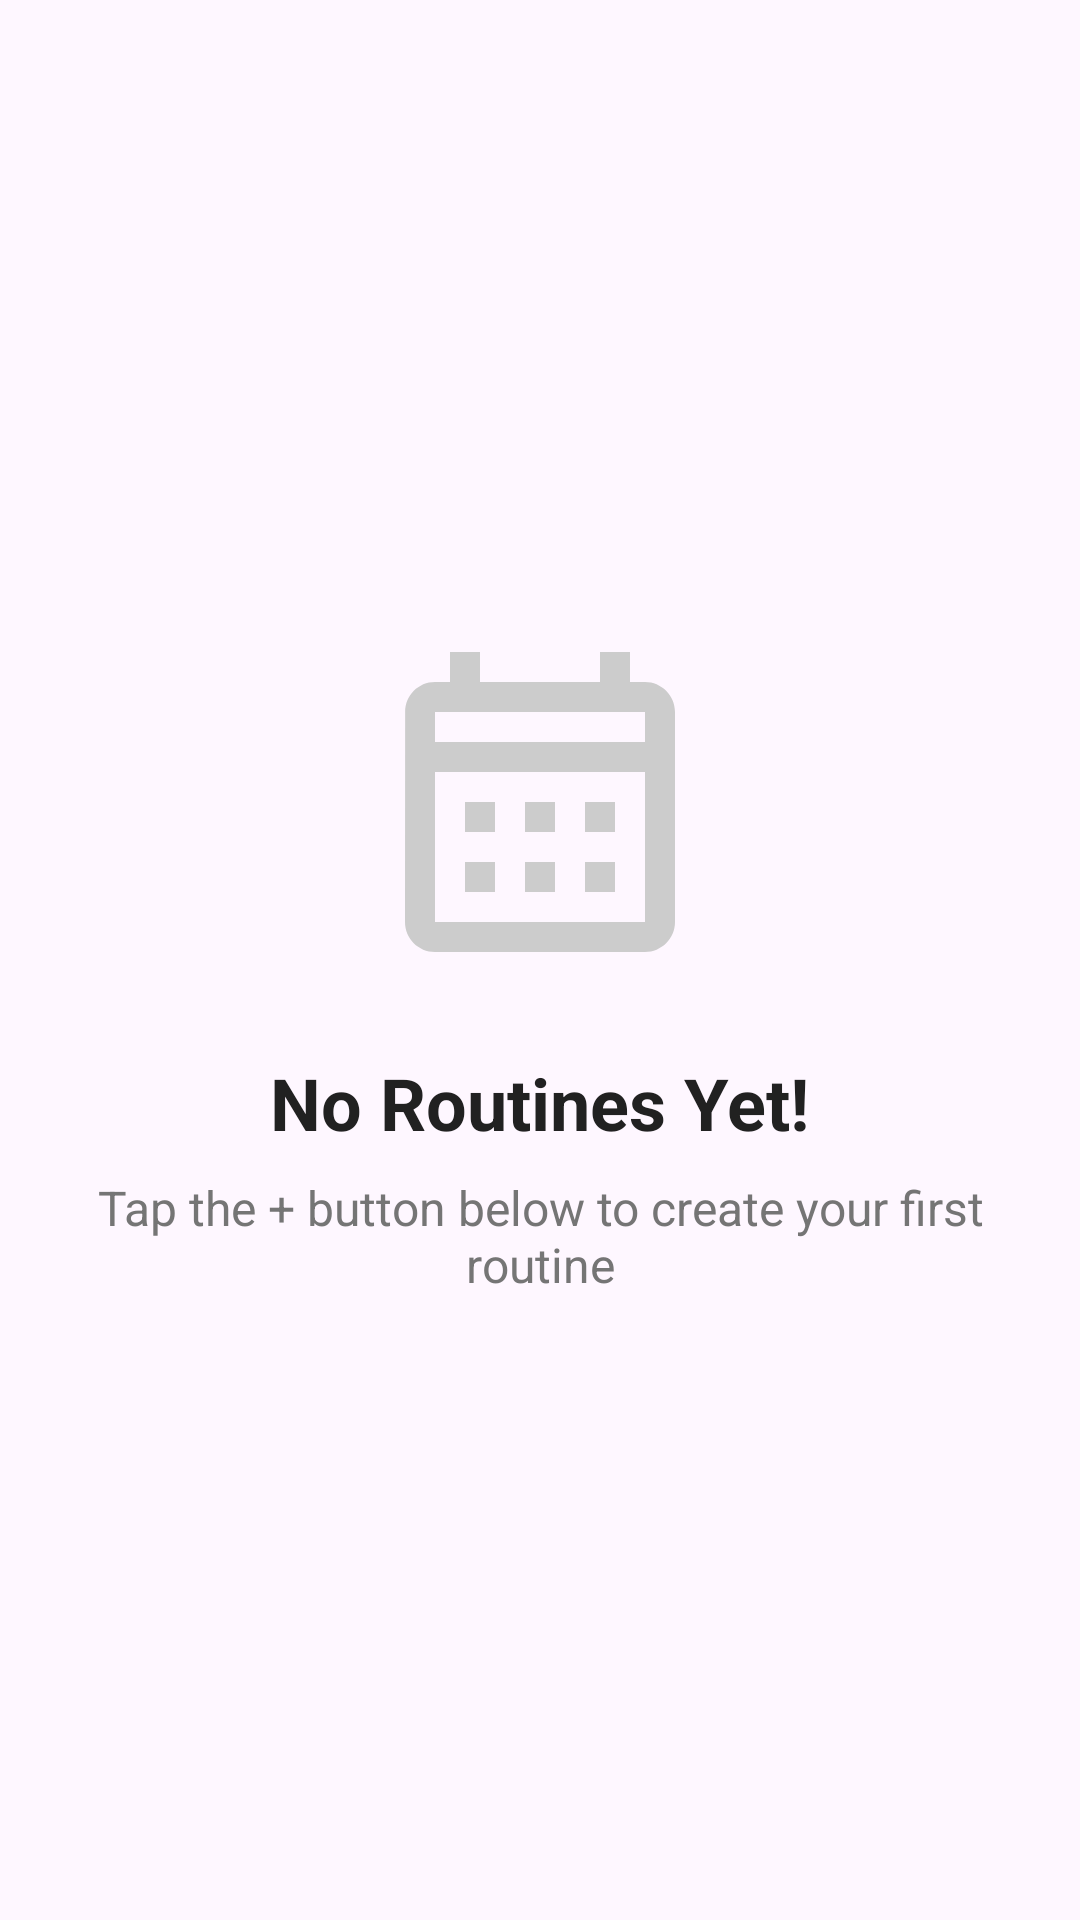

Where to tap for icons on this 1080 x 1920 app screen, as (x,y):
Empty calendar icon: (540,802)
